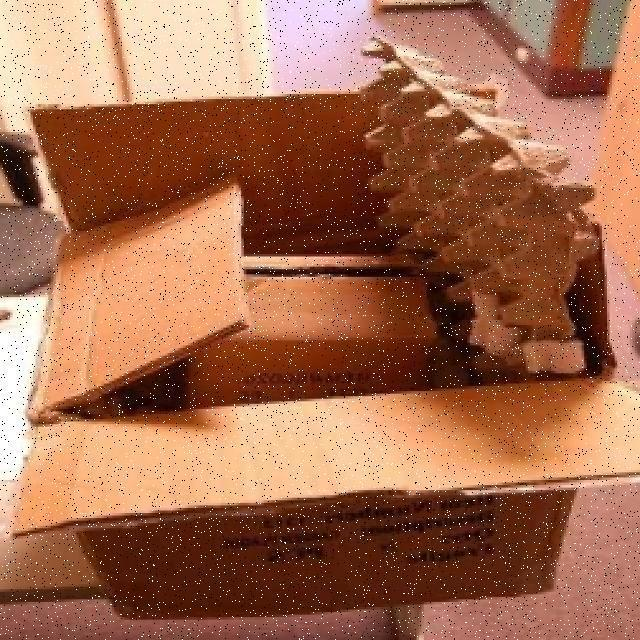box: (39, 52, 584, 628), (190, 257, 406, 415)
